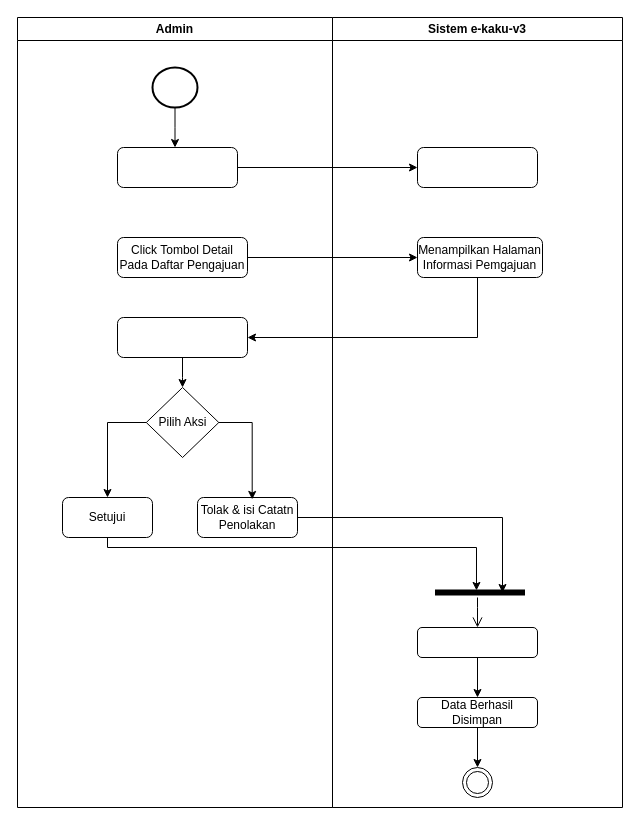
Image size: 640x825. Some labels were removed from this diagram. Each missing label, with the centre of its shape:
"Masuk Halaman Verifikasi" belongs at (177,167).
"Melihat Biodata & Berkas Pengajuan" belongs at (182,337).
"Menampilkan Halaman Verifikasi" belongs at (477,167).
"Mengirim Notifikasi" belongs at (477,642).
